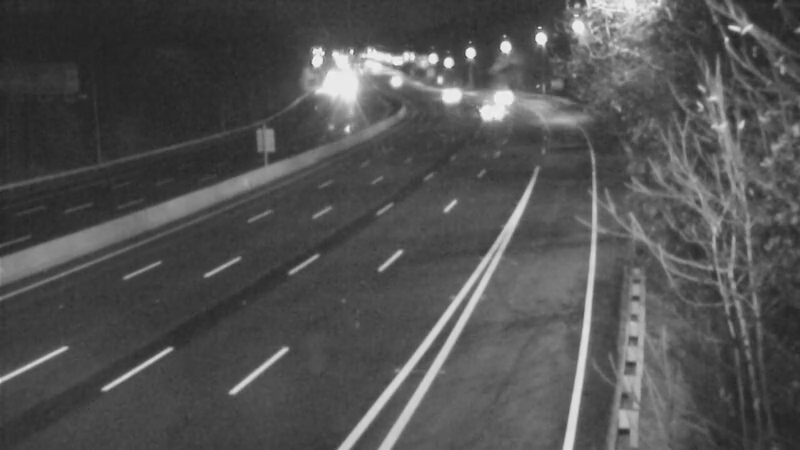vehicle: (365, 52, 415, 102), (482, 70, 532, 120), (416, 68, 466, 118), (469, 82, 519, 132)
